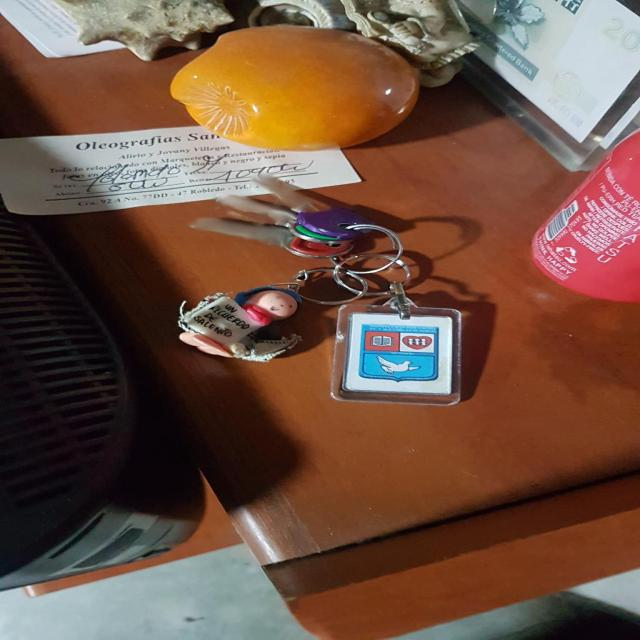Frontdoor keys: (194, 167, 427, 264)
